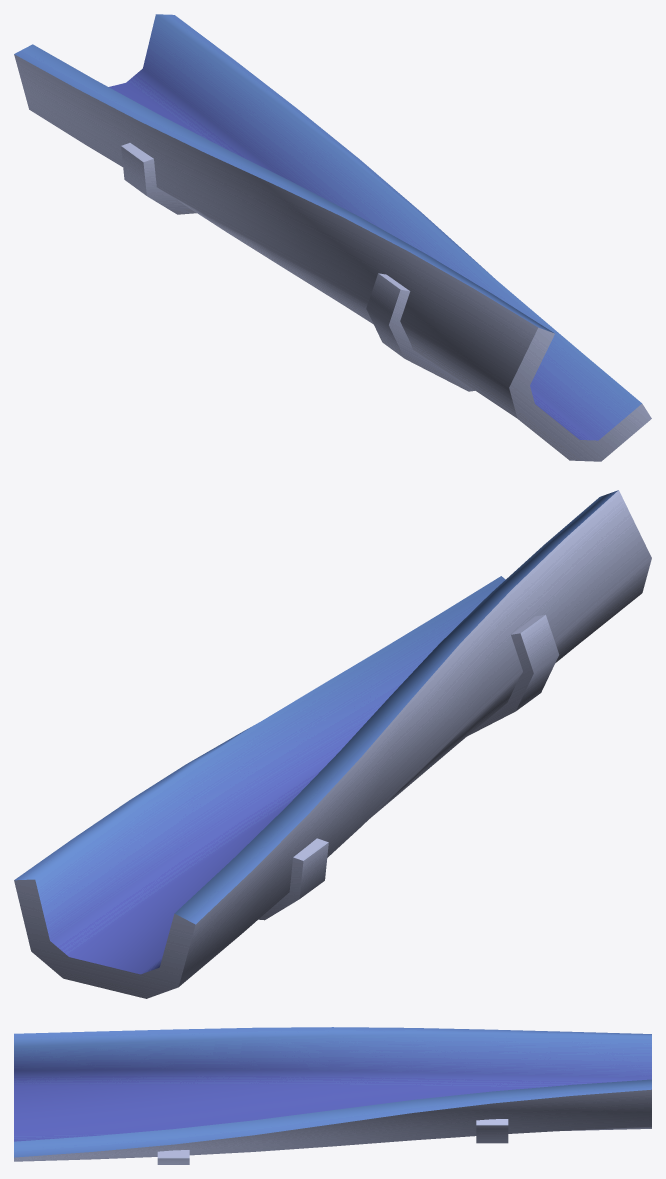
The model's file is coaster-flume-straight-skew-left.glb.
3 views of the same model, one above another, from view 1: azimuth 30°, elevation 25°; view 2: azimuth 150°, elevation 25°; view 3: azimuth 270°, elevation 25° (orthographic). The views are drawn at different scales.
Parts seen in each view (by area): view 1: coaster-flume-straight-skew-left; view 2: coaster-flume-straight-skew-left; view 3: coaster-flume-straight-skew-left.
Boxes of the visible parts, x1,y1,x2,y2 form: coaster-flume-straight-skew-left: (14, 14, 651, 461); coaster-flume-straight-skew-left: (14, 490, 651, 998); coaster-flume-straight-skew-left: (14, 1027, 651, 1164).
Bounding box in the file's own units: 2.91 × 2.21 × 12.
1 material, 1 textured.
